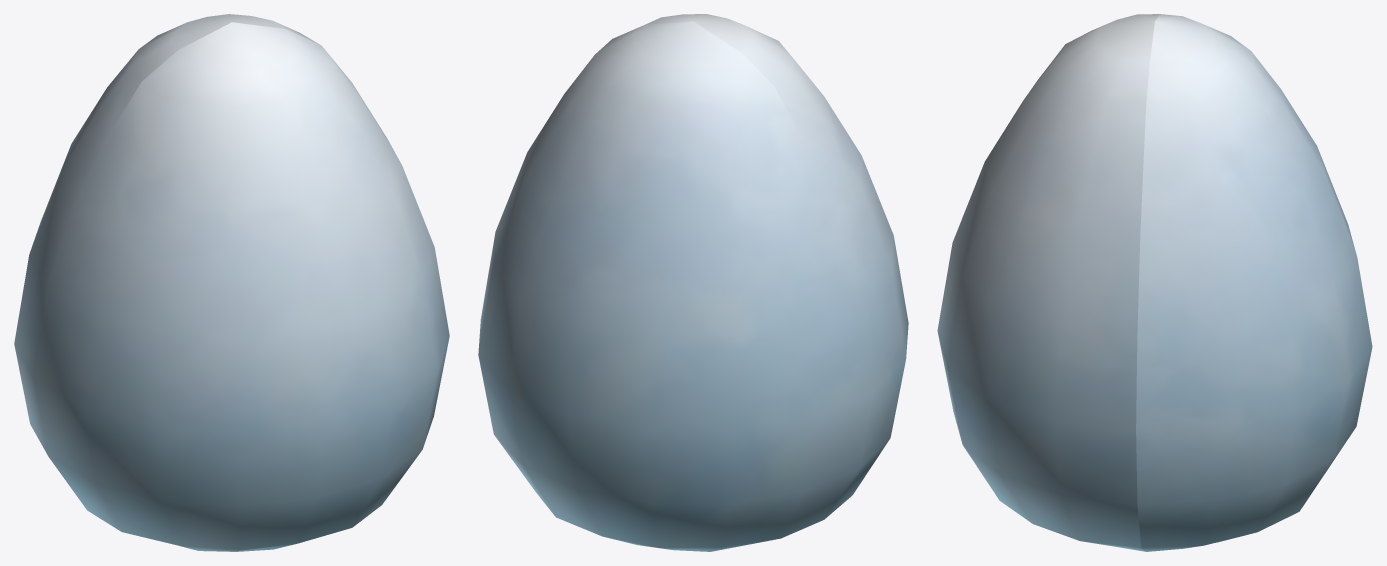
File: Egg_1.fbx
3 views of the same model, side by side, from view 1: azimuth 30°, elevation 25°; view 2: azimuth 150°, elevation 25°; view 3: azimuth 270°, elevation 25° (orthographic).
Visible parts, largest first — view 1: Egg_1; view 2: Egg_1; view 3: Egg_1.
Boxes of the visible parts, bbox=[...] form: Egg_1: bbox=[14, 14, 449, 551]; Egg_1: bbox=[478, 14, 908, 551]; Egg_1: bbox=[937, 14, 1372, 551].
Bounding box in the file's own units: 0.2499 × 0.3207 × 0.2499.
1 material, 1 textured.
